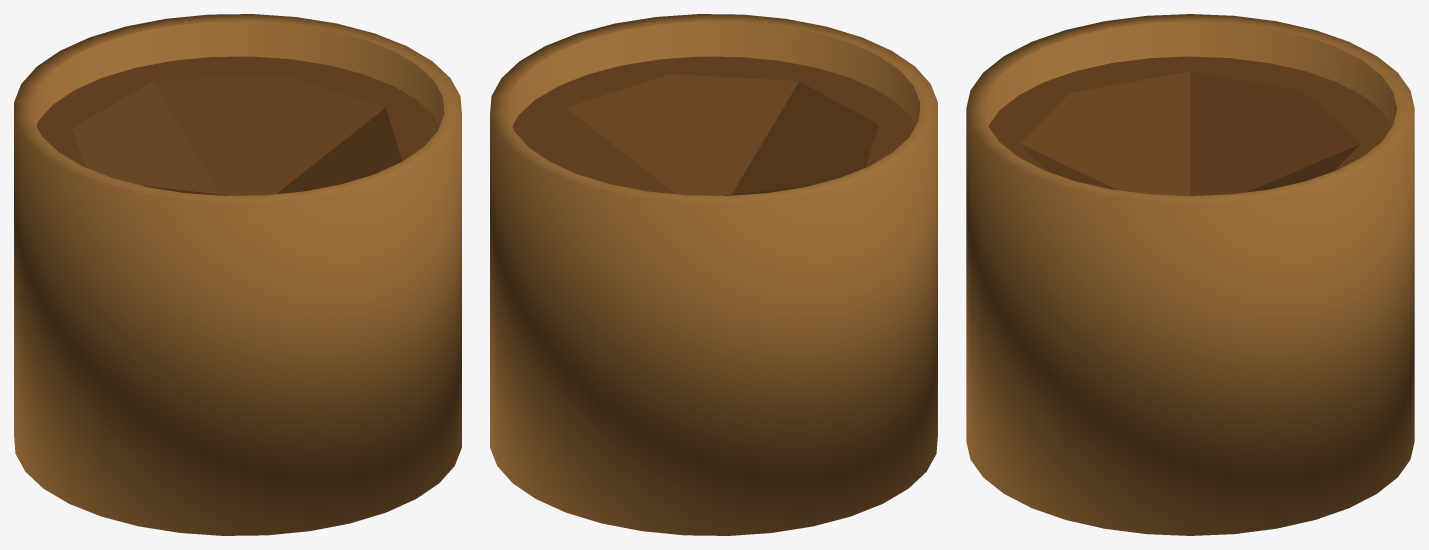
The model's file is pot_creuse.fbx.
3 renders of one model, left to right at view 1: azimuth 30°, elevation 25°; view 2: azimuth 150°, elevation 25°; view 3: azimuth 270°, elevation 25°, orthographic.
Parts seen in each view (by area): view 1: Cylinder.003, Cylinder.002; view 2: Cylinder.003, Cylinder.002; view 3: Cylinder.003, Cylinder.002.
Part boxes in pixels (x1,y1,x2,y2): Cylinder.003: (14, 14, 461, 535); Cylinder.002: (36, 56, 439, 195); Cylinder.003: (490, 14, 937, 535); Cylinder.002: (512, 56, 915, 195); Cylinder.003: (966, 14, 1414, 535); Cylinder.002: (988, 56, 1392, 195).
Bounding box in the file's own units: 245 × 200 × 245.
